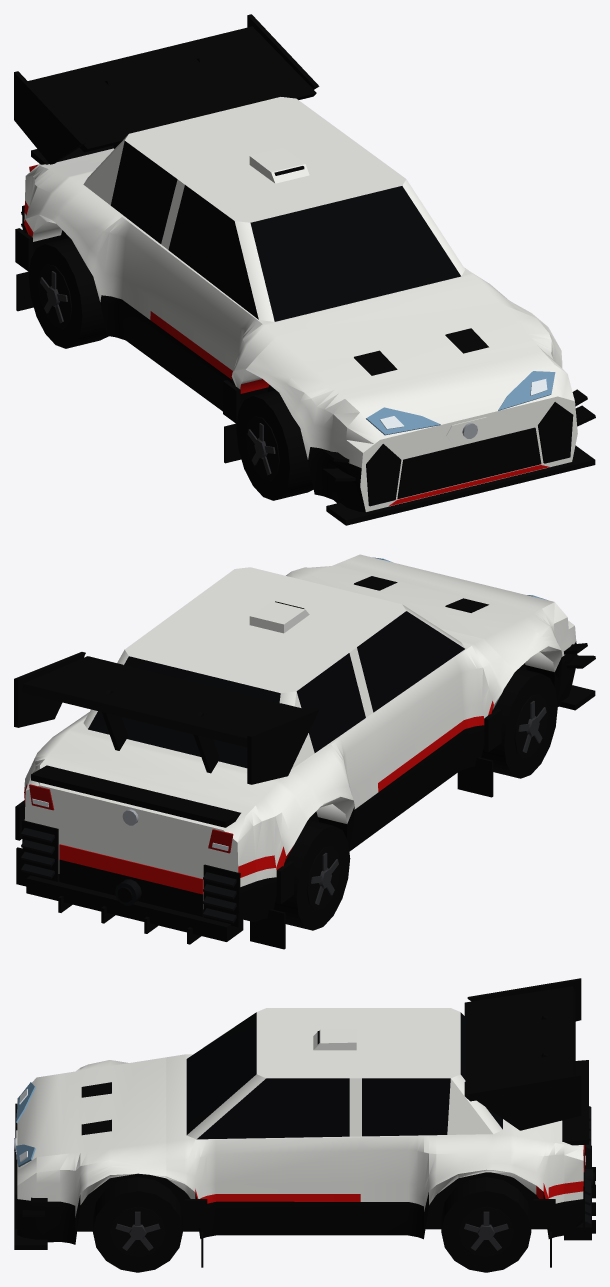
File: yaris-wrc.glb
3 renders of one model, top to bottom at view 1: azimuth 30°, elevation 25°; view 2: azimuth 150°, elevation 25°; view 3: azimuth 270°, elevation 25°, orthographic. The views are drawn at different scales.
Visible parts, largest first — view 1: body, cabin, cabin-body, wing, body-black, grille, wheel-back-right, wheel-front-right, wing-plate-right, splitter, fang-right, fang-left (+8 smaller); view 2: body, cabin-body, cabin, wing, body-black, diffuser, wheel-back-right, wheel-front-right, wing-lower, wing-plate-right, lower, band (+14 smaller); view 3: body, cabin, cabin-body, body-black, wing, wheel-front-left, wheel-back-left, wing-plate-left, body-red, rim-back-left, rim-front-left, well-back (+8 smaller).
Part boxes in pixels (x1,y1,x2,y2): body: (24,148,577,511); cabin: (110,141,460,321); cabin-body: (83,97,465,321); wing: (28,26,316,152); body-black: (24,224,365,512); grille: (397,427,541,498); wheel-back-right: (28,238,108,348); wheel-front-right: (236,390,313,500); wing-plate-right: (14,71,85,164); splitter: (326,445,595,525); fang-right: (366,444,401,506); fang-left: (538,402,573,463); body: (24,554,576,908); cabin-body: (83,567,464,769); cabin: (88,611,464,768); wing: (21,656,310,747); body-black: (239,641,577,921); diffuser: (26,874,243,941); wheel-back-right: (274,819,350,930); wheel-front-right: (481,668,557,778); wing-lower: (31,765,240,827); wing-plate-right: (247,708,319,784); lower: (59,859,203,916); band: (59,844,203,894); body: (17,1054,583,1217); cabin: (186,1012,502,1139); cabin-body: (187,1008,502,1139); body-black: (17,1192,583,1244); wing: (464,986,575,1101); wheel-front-left: (92,1177,182,1272); wheel-back-left: (441,1177,531,1272); wing-plate-left: (467,1074,581,1130); body-red: (195,1181,583,1203); rim-back-left: (458,1206,514,1257); rim-front-left: (110,1206,165,1257); well-back: (425,1172,547,1229).
Size of the model in its own units: 1.92 by 1.52 by 4.19.
